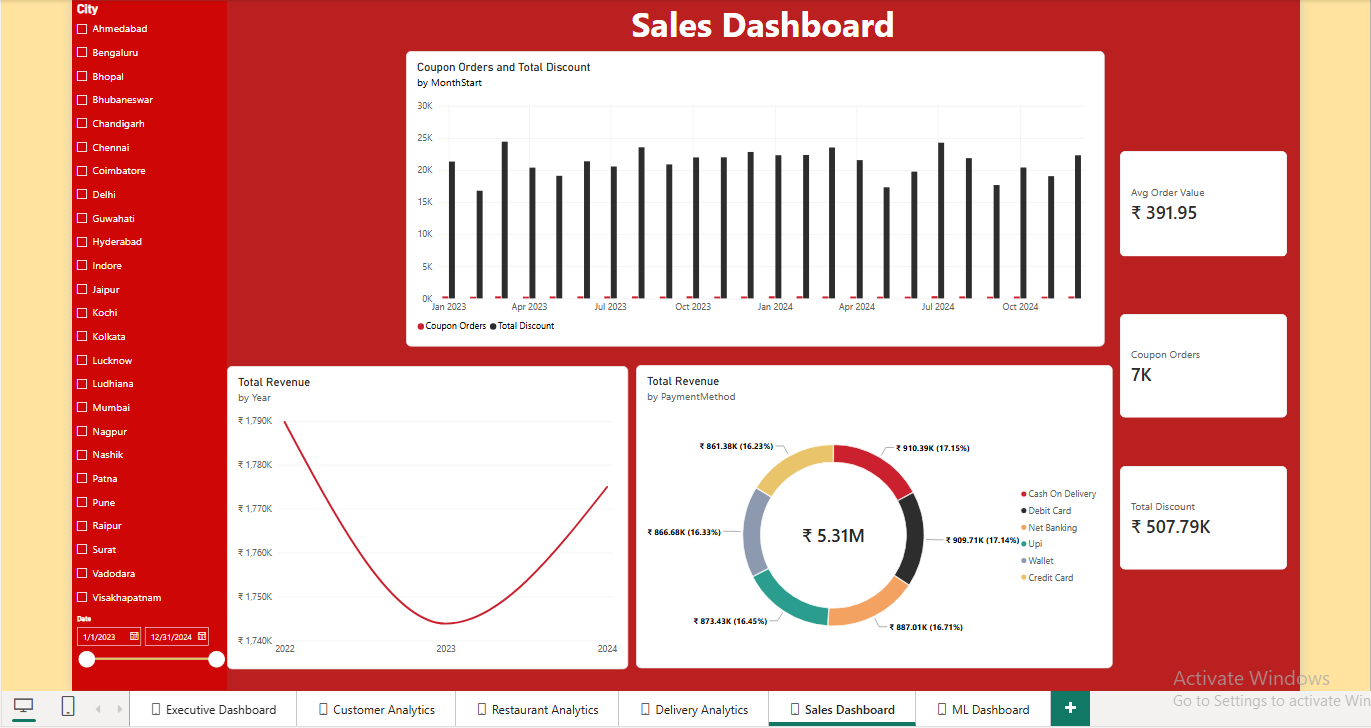

This screenshot's page, from the dashboard's own definition file:
{"tool":"powerbi","page":{"name":"Sales Dashboard","canvas":[1920,1080],"ordinal":4},"visuals":[{"type":"slicer","fields":{"Values":["Cities.City"]},"box":[0,1.8,241.6,960.9],"z":0},{"type":"slicer","fields":{"Values":["Date.Date"]},"box":[0,961.9,242.4,116.4],"z":1000},{"type":"textbox","box":[241.9,0,1675.9,94.6],"z":1001},{"type":"lineChart","fields":{"Category":["Customers.RegistrationDate.Variation.Date Hierarchy.Year","Customers.RegistrationDate.Variation.Date Hierarchy.Quarter","Customers.RegistrationDate.Variation.Date Hierarchy.Month","Customers.RegistrationDate.Variation.Date Hierarchy.Day"],"Y":["_Measures.Total Revenue"]},"box":[241.6,571.8,627.1,474],"z":1002},{"type":"clusteredColumnChart","fields":{"Category":["Date.MonthStart"],"Y":["_Measures.Coupon Orders","_Measures.Total Discount"]},"box":[522.3,79.2,1091.8,461.7],"z":1006},{"type":"cardVisual","fields":{"Data":["_Measures.Coupon Orders"]},"box":[1637.7,490.3,261.9,162.3],"z":1007},{"type":"cardVisual","fields":{"Data":["_Measures.Avg Order Value"]},"box":[1637.7,235.9,261.9,166],"z":1008},{"type":"cardVisual","fields":{"Data":["_Measures.Total Discount"]},"box":[1637.7,727.9,261.9,162.3],"z":1009},{"type":"donutChart","fields":{"Category":["Orders.PaymentMethod"],"Y":["_Measures.Total Revenue"]},"box":[881.2,571.2,745.1,474],"z":1010}]}

Visuals, with their boxes in screenshot pixels (x1, y1, x2, y2):
slicer - Cities.City: rect(68, 0, 223, 610)
slicer - Date.Date: rect(68, 610, 223, 685)
textbox: rect(223, 0, 1298, 54)
lineChart - Customers.RegistrationDate.Variation.Date Hierarchy.Year x Customers.RegistrationDate.Variation.Date Hierarchy.Quarter: rect(223, 360, 625, 664)
clusteredColumnChart - Date.MonthStart x _Measures.Coupon Orders: rect(403, 44, 1103, 340)
cardVisual - _Measures.Coupon Orders: rect(1118, 307, 1286, 411)
cardVisual - _Measures.Avg Order Value: rect(1118, 144, 1286, 251)
cardVisual - _Measures.Total Discount: rect(1118, 460, 1286, 564)
donutChart - Orders.PaymentMethod x _Measures.Total Revenue: rect(633, 359, 1111, 663)
